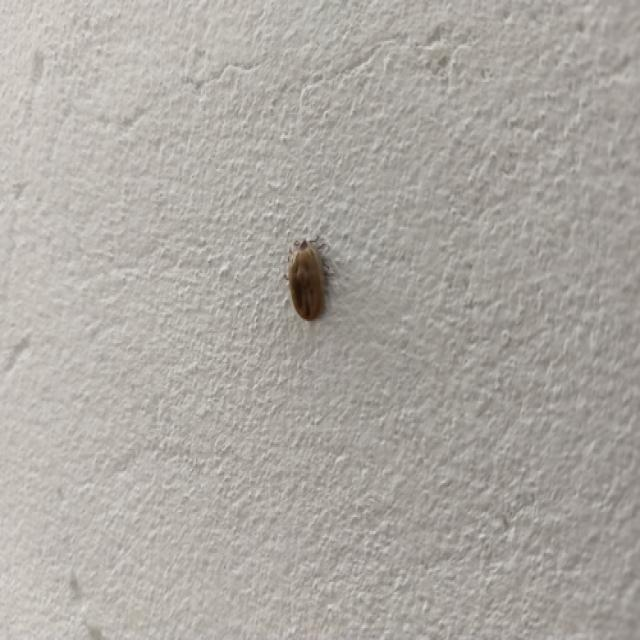Rhipicephalus Sanguineus-F-Fed: (287, 239, 332, 324)
